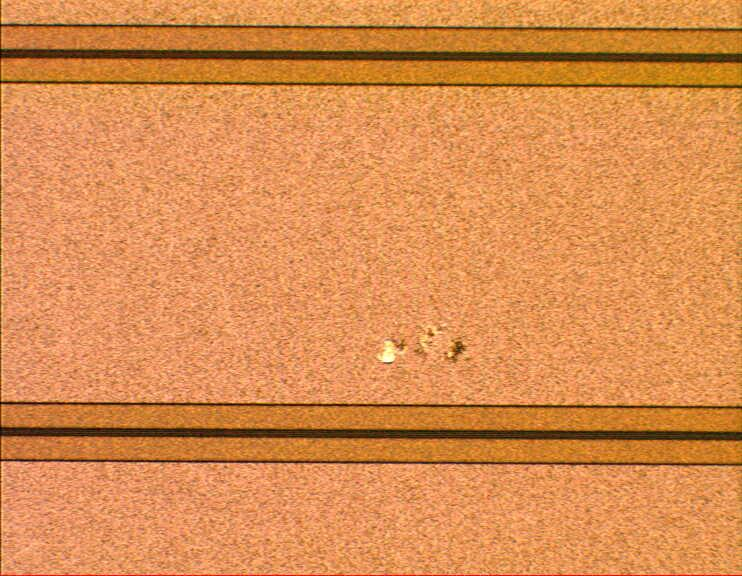SCRATCH: (353, 314, 486, 377)
